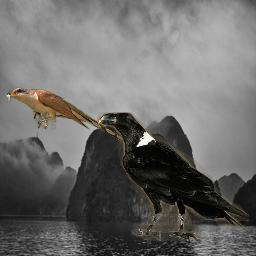Crow: (97, 112, 249, 241)
Cuckoo: (3, 87, 126, 141)
